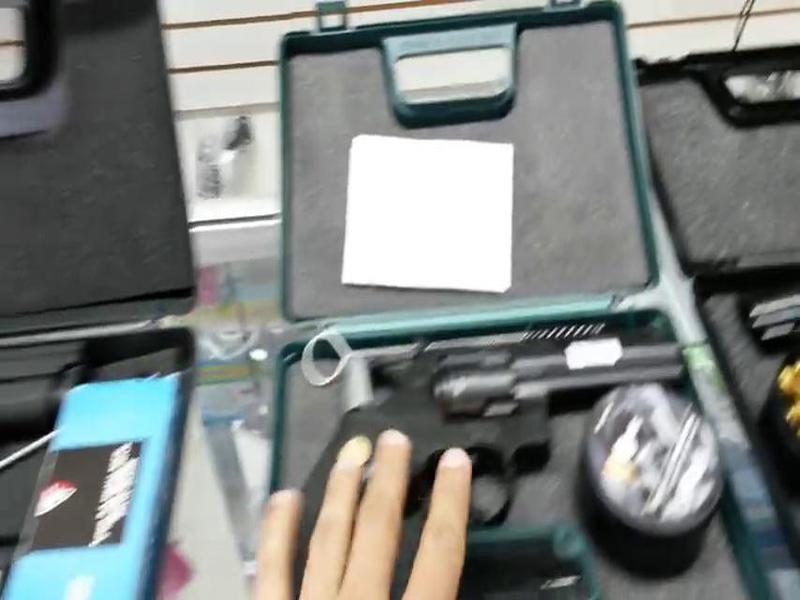Revolver: (273, 306, 703, 600)
